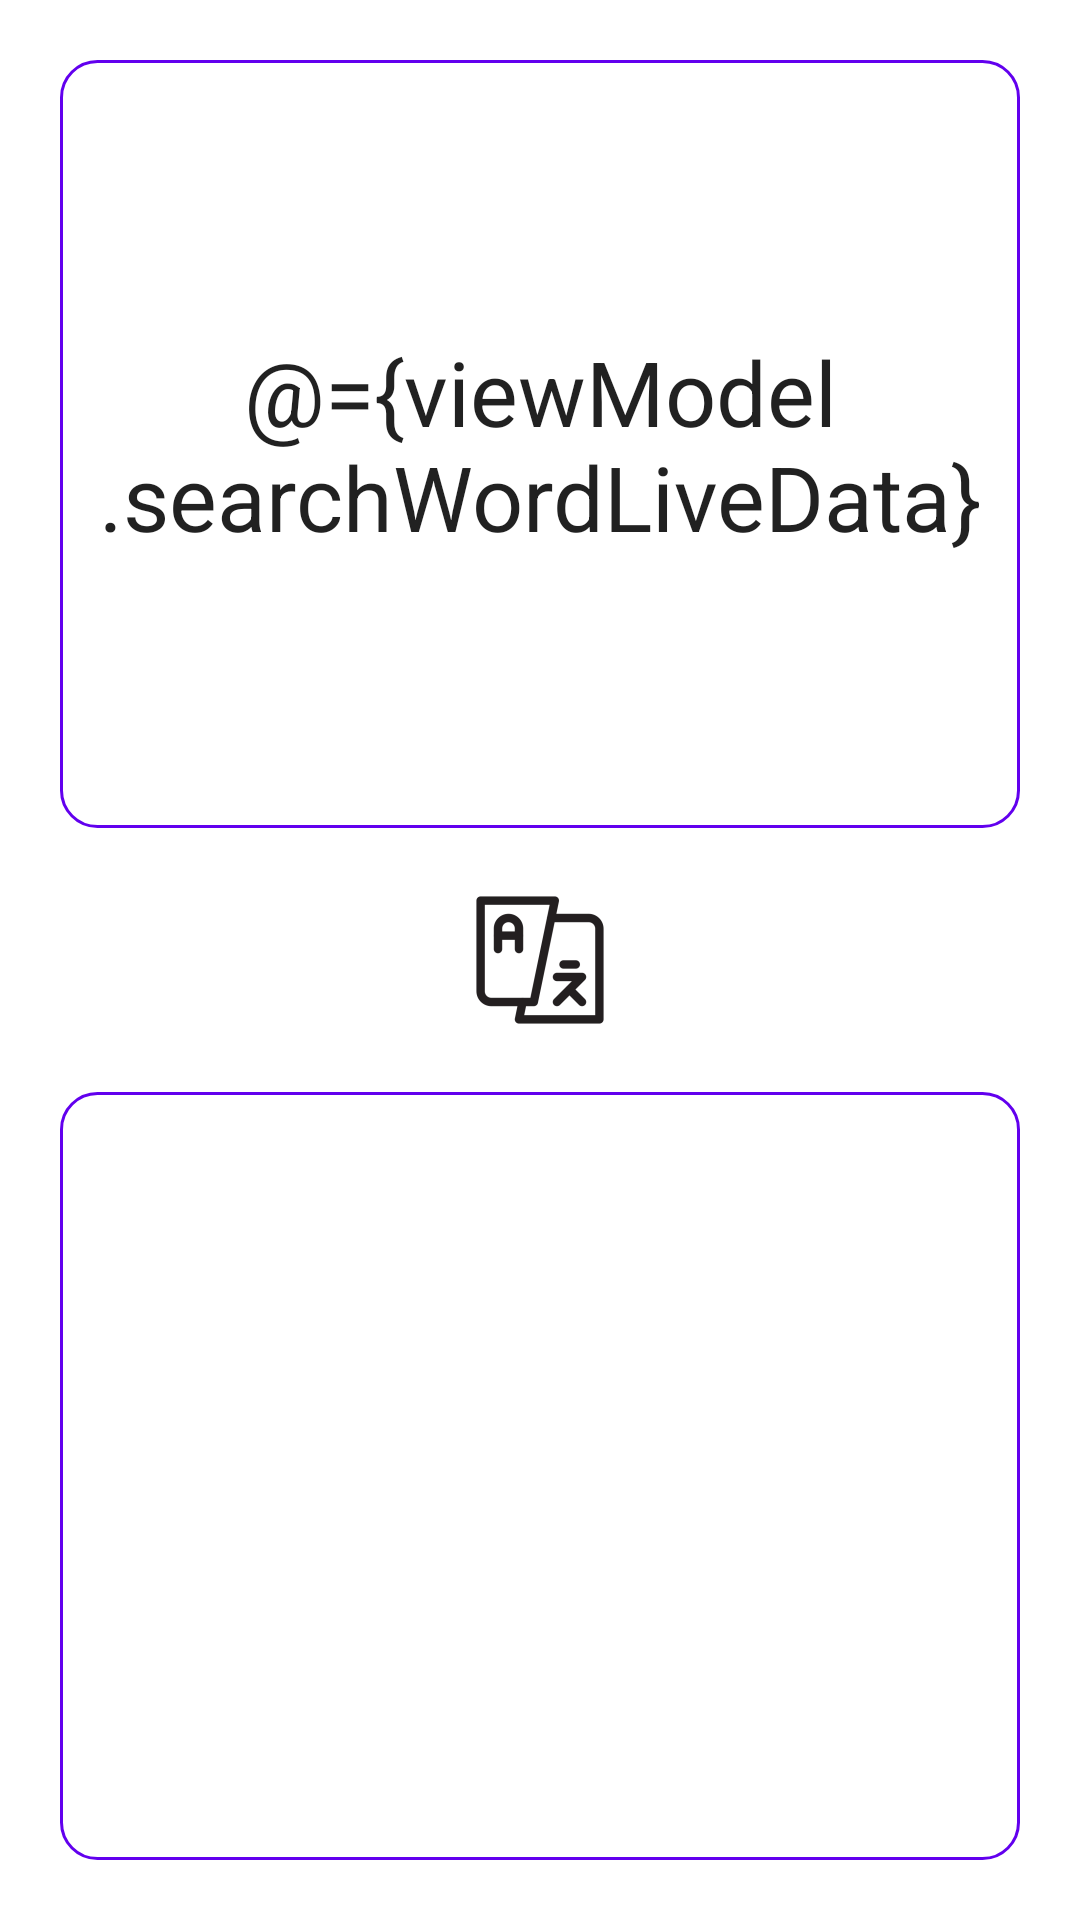

Locate icon controls on the screen. Image size 1080px×1920px, boxes as (x1, y1, x2, y2).
translate: (476, 896, 604, 1024)
